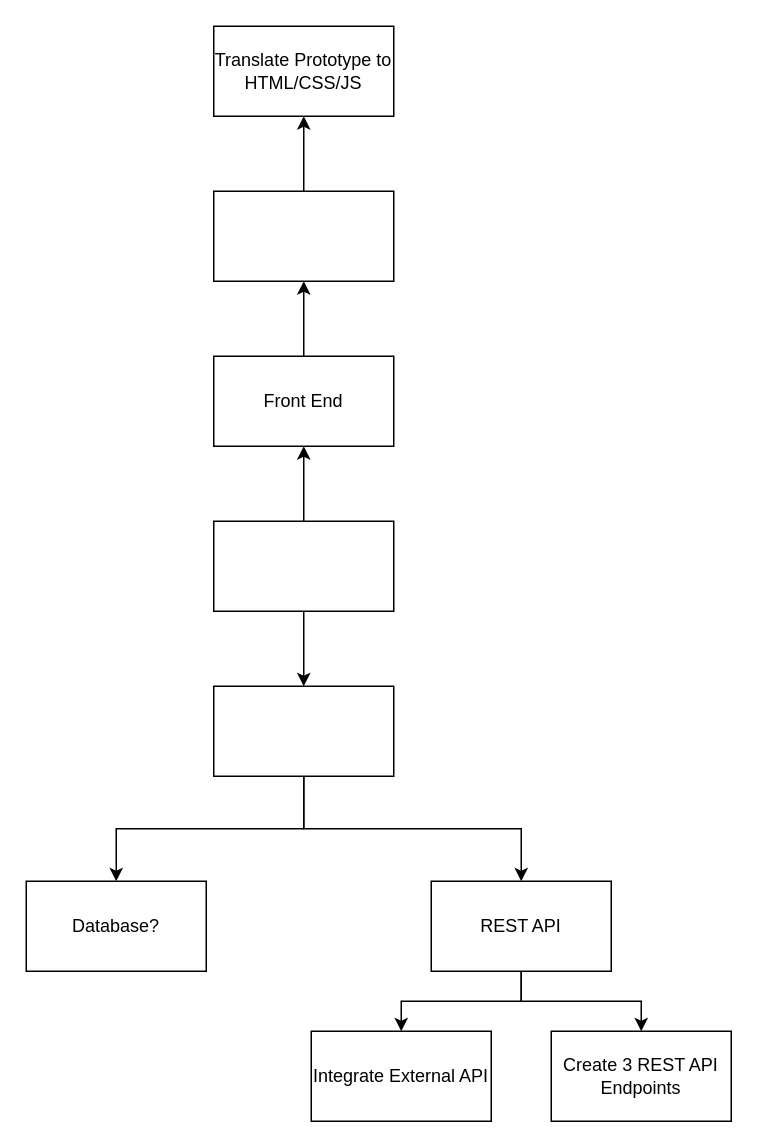
This 758x1148 diagram has some shape labels left out. The shapes that lost their labels are listed below. From the top down, each one's centre as x and y in pixels, then its label:
the point at 303,235: Wireframe Prototype
the point at 303,565: Movie App
the point at 303,730: Back End
